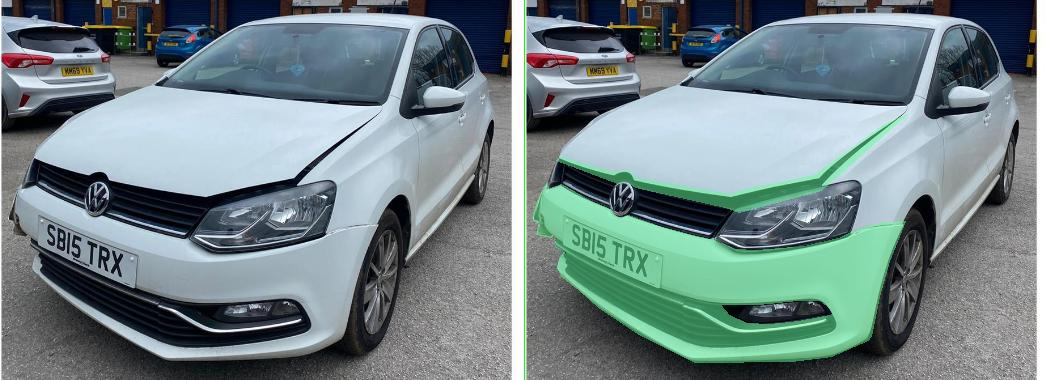Broken part: (16, 182, 761, 362), (62, 114, 765, 212), (60, 236, 623, 348)
